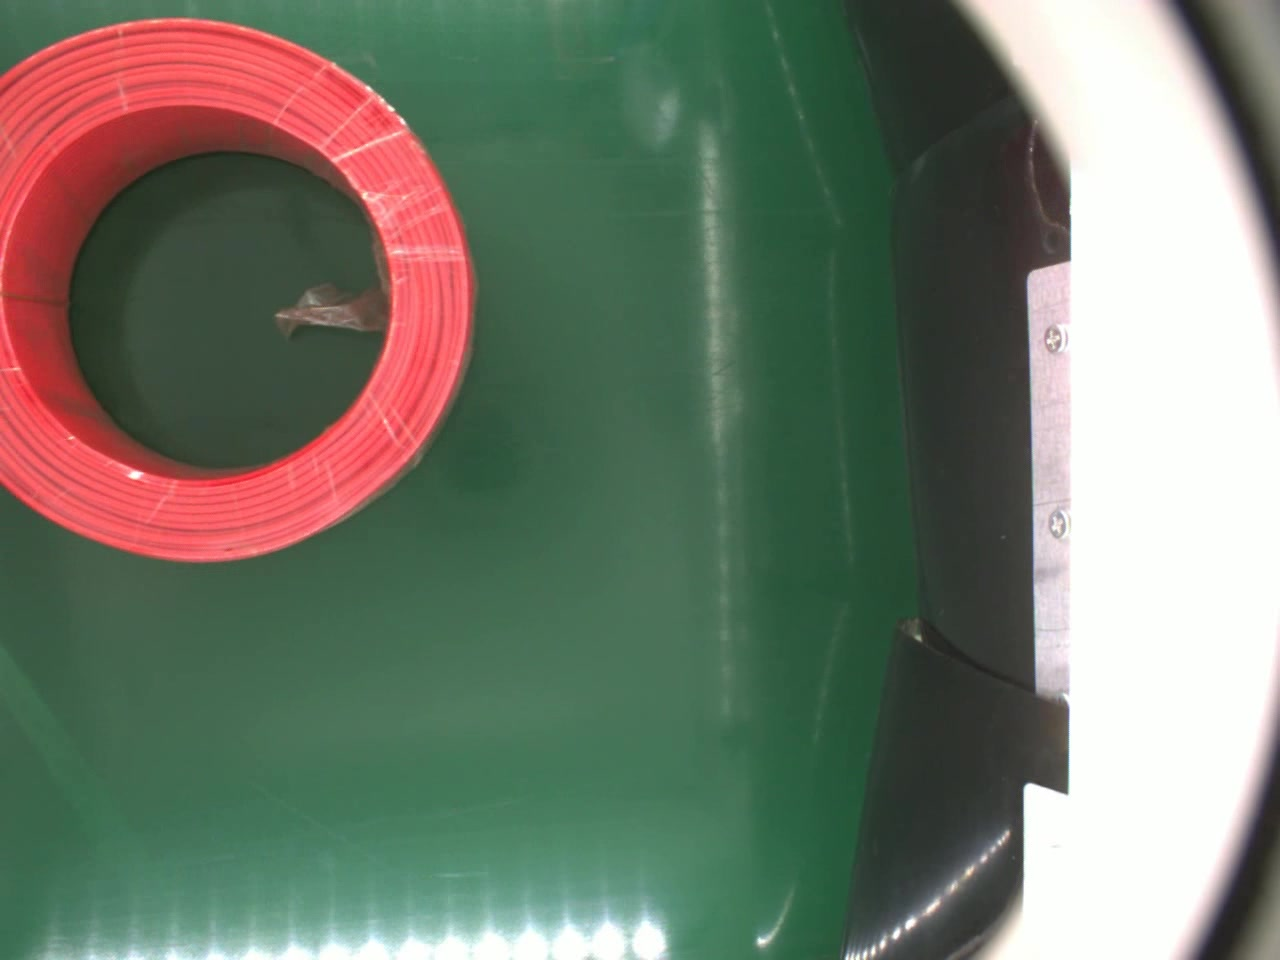red: (0, 14, 479, 567)
